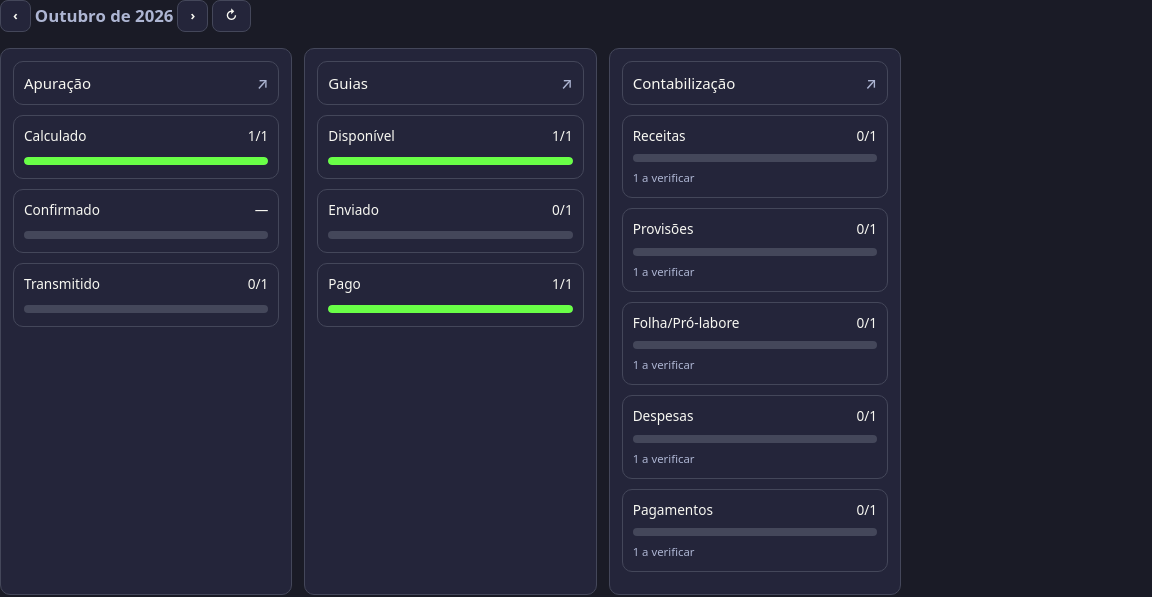
Calculado mantém somente estado pertinente e ação curta na tabela
Click the button "Calculado 1/1": (55, 136) [13, 115, 279, 179]
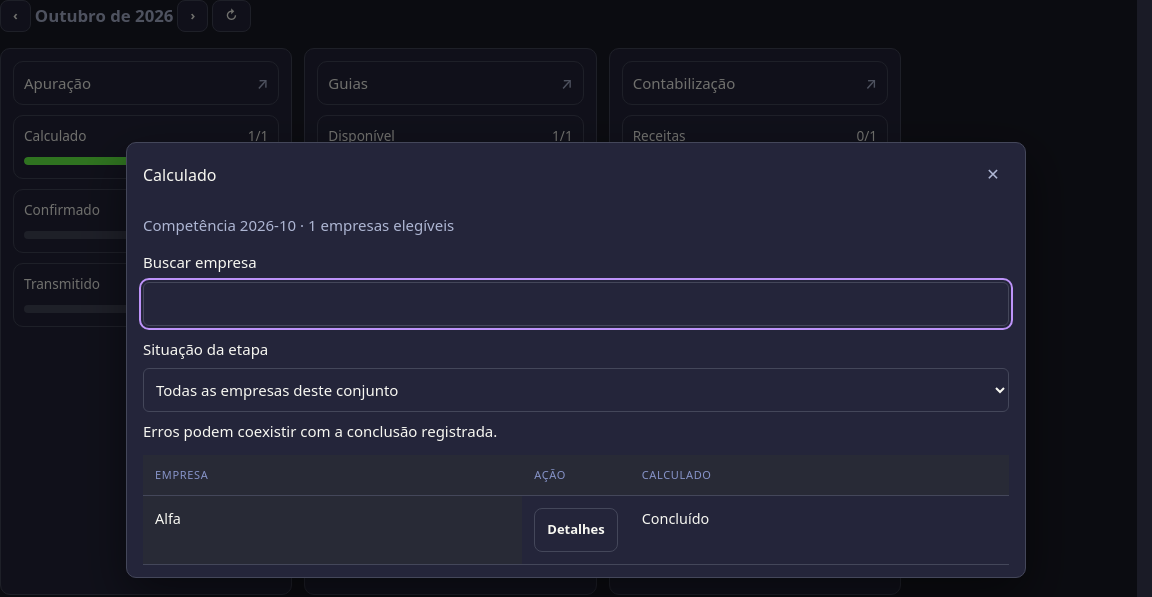
Expected: the column heading "Calculado" is shown, [630, 455, 1009, 496]
Expected: the button with aria-label "Ver evidências de Alfa" reads "Detalhes"
Click the button "Detalhes": (576, 530) [534, 508, 618, 552]
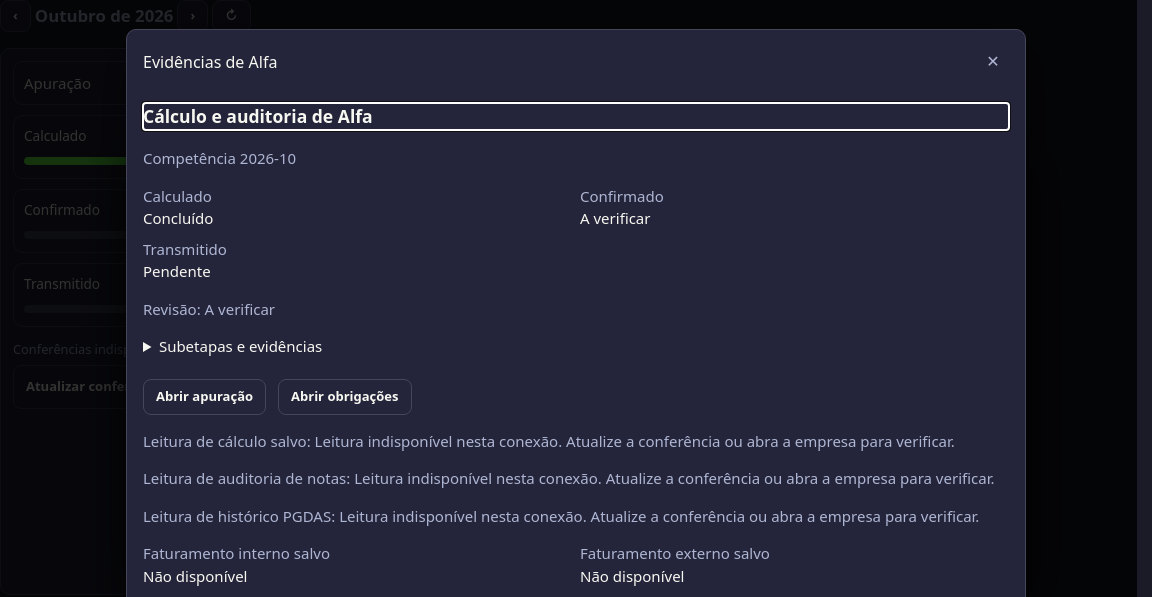
Expected: the text "Leitura de cálculo salvo:" is shown, [143, 430, 1009, 452]
Expected: the text "Confirmado" is shown, [580, 186, 664, 206]
Expected: the text "Calculado" is shown, [143, 186, 212, 206]
